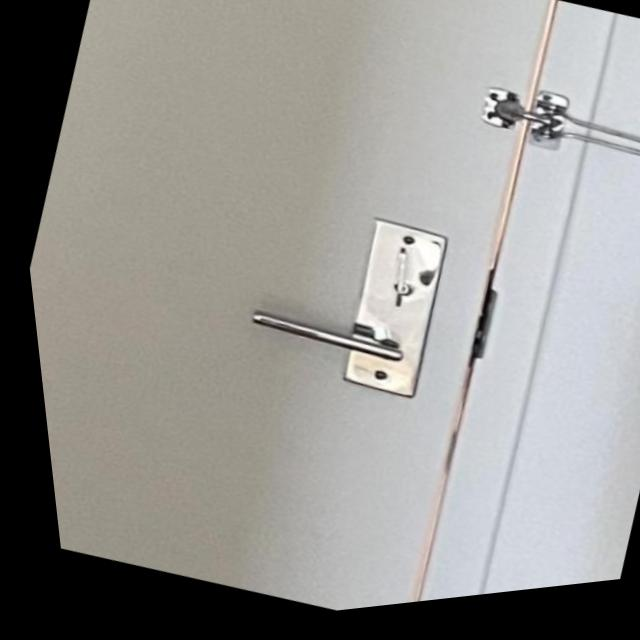door_handle: (217, 262, 438, 413)
